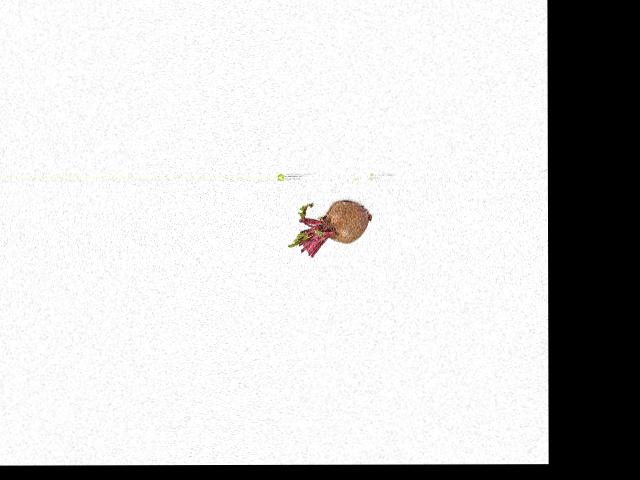beet: (289, 201, 372, 257)
